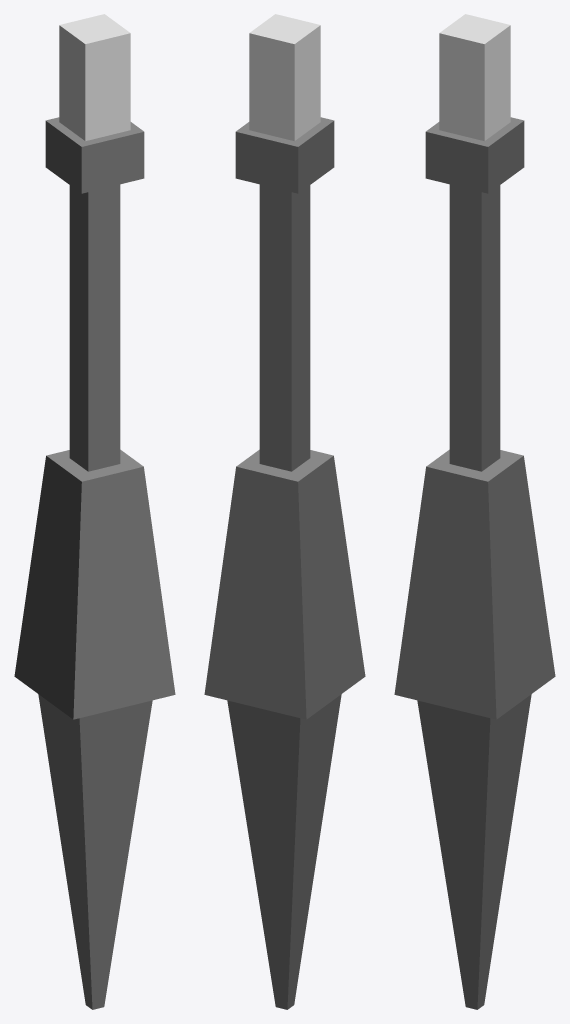
The model's file is SM_Prop_Tether_03.fbx.
3 views of the same model, side by side, from view 1: azimuth 30°, elevation 25°; view 2: azimuth 150°, elevation 25°; view 3: azimuth 330°, elevation 25° (orthographic).
Visible parts, largest first — view 1: SM_Prop_Tether_03; view 2: SM_Prop_Tether_03; view 3: SM_Prop_Tether_03.
Boxes of the visible parts, bbox=[...] form: SM_Prop_Tether_03: bbox=[14, 14, 175, 1009]; SM_Prop_Tether_03: bbox=[204, 14, 365, 1009]; SM_Prop_Tether_03: bbox=[394, 14, 555, 1009].
Size of the model in its own units: 0.4629 by 4.23 by 0.4629.
